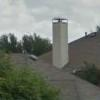Chimney: (48, 10, 79, 69)
